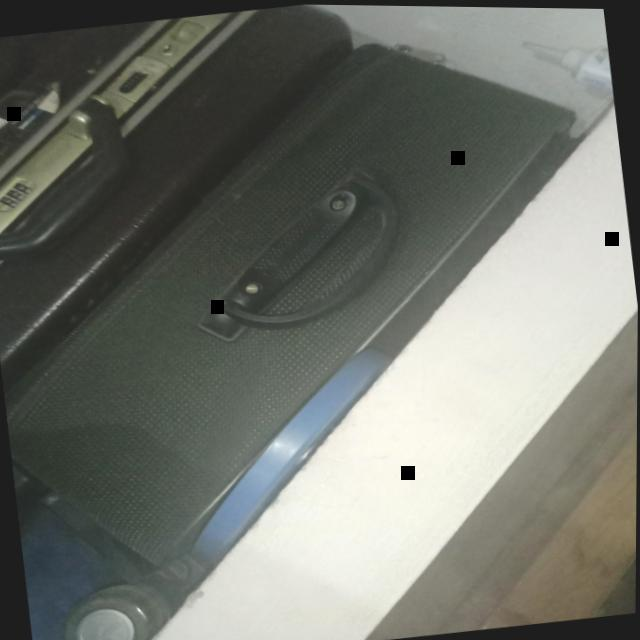luggage: (0, 2, 640, 619)
